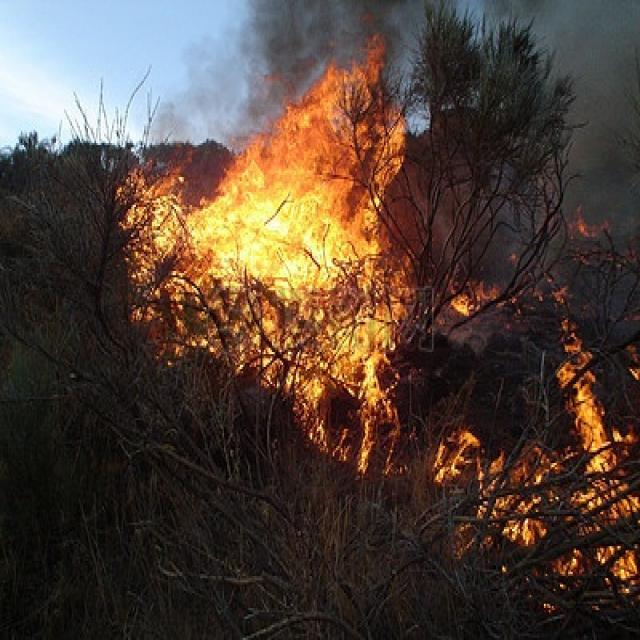Fire: (115, 12, 640, 610)
Smoke: (147, 2, 640, 348)
